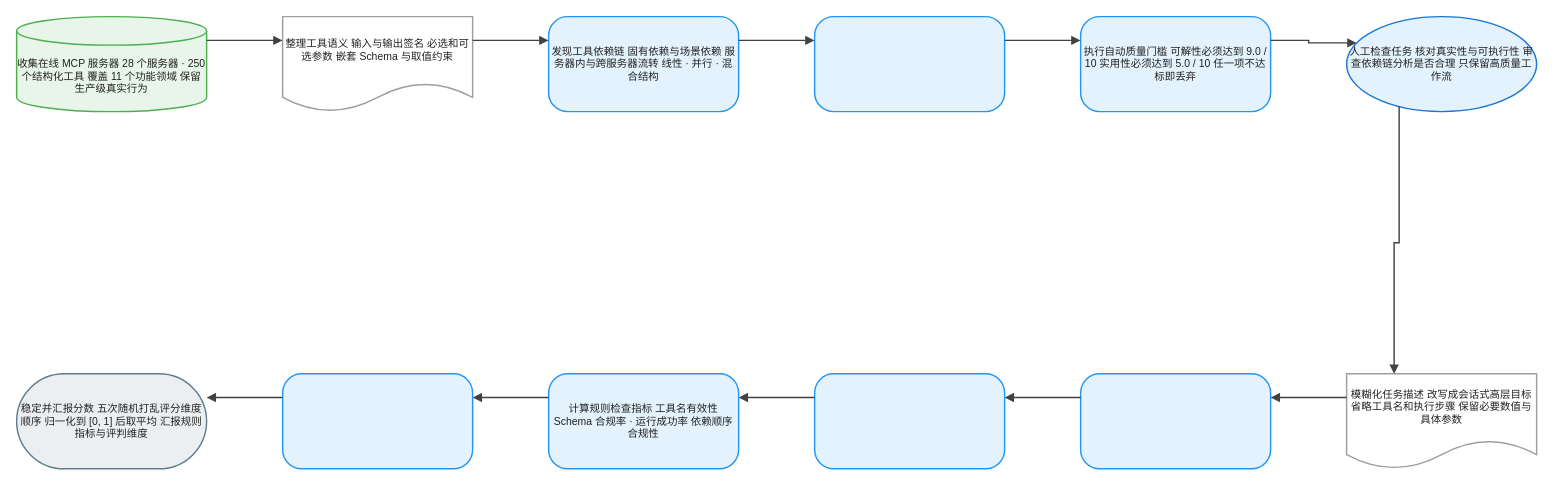
The diagram is 1554 pixels wide and 486 high, and some of its shapes have lost their labels. The shapes that lost their labels are listed below. From the top down, each one's box as (x1, y1, x2, y2) in pixels, then its label:
(813, 15, 1005, 112): 用 o4-mini 合成任务 目标基于已分析的依赖链 单服务器 56 · 双服务器 30 三服务器 18 · 共 104 题
(281, 373, 473, 469): 使用 o4-mini 评分评判器 任务完成 · 工具使用 规划有效性 每个子维度按 1 到 10 分评分
(813, 373, 1005, 469): 运行多轮 MCP 智能体 规划 · 调用 · 观察 · 压缩 最多 20 轮并持续更新状态 根据完整轨迹生成最终答案
(1079, 373, 1271, 469): 为每题加入检索噪声 附加 10 个干扰服务器 引入 100 多个额外工具 迫使智能体仅凭语境选工具
